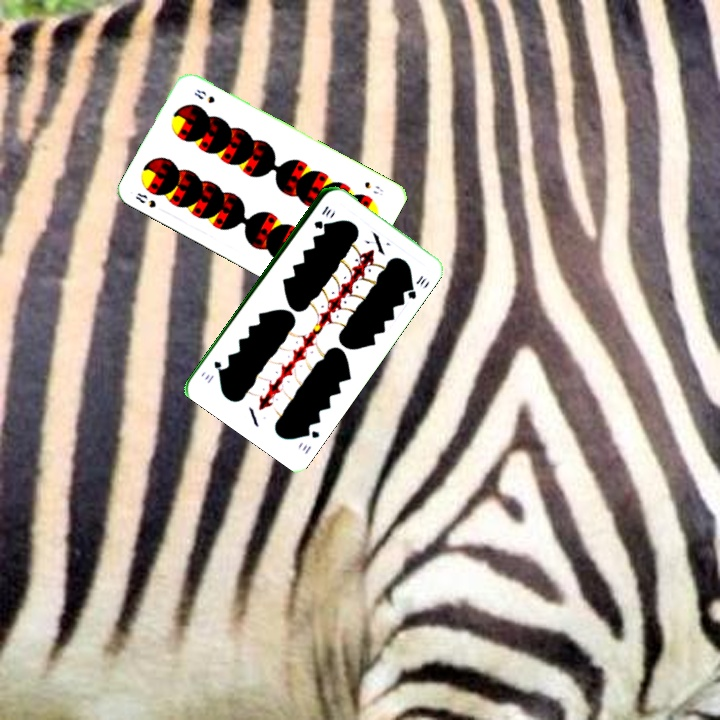G10: (298, 424, 322, 456), (310, 202, 334, 231)
S8: (131, 188, 159, 211), (360, 177, 386, 198)
